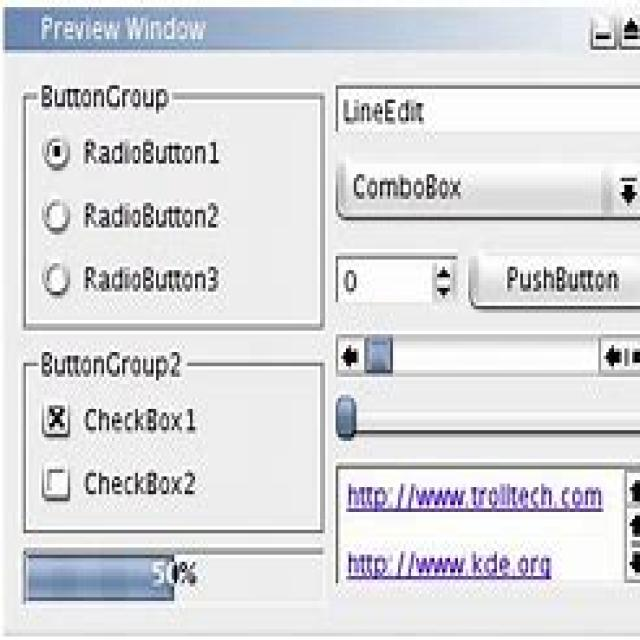Hyperlink: (341, 474, 608, 516), (342, 542, 559, 586)
button: (466, 248, 640, 316), (587, 11, 617, 53), (619, 7, 640, 50)
checkbox: (36, 396, 74, 442), (40, 455, 72, 509)
dropdownMenu: (333, 153, 640, 220)
input: (333, 74, 640, 138)
label: (39, 0, 212, 50), (39, 66, 173, 118), (39, 345, 182, 383), (82, 194, 226, 229), (82, 261, 224, 294), (83, 398, 202, 436), (85, 464, 199, 502), (80, 136, 227, 164)
radio: (40, 256, 73, 302), (41, 192, 74, 237), (40, 129, 74, 170)
slider: (329, 385, 640, 450), (330, 327, 640, 381)
upDown: (330, 459, 640, 594), (328, 250, 458, 310)
